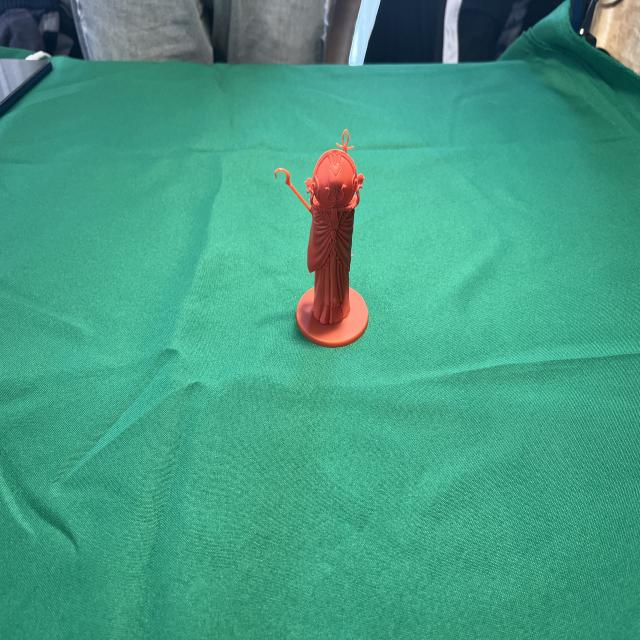amon: (274, 122, 372, 354)
